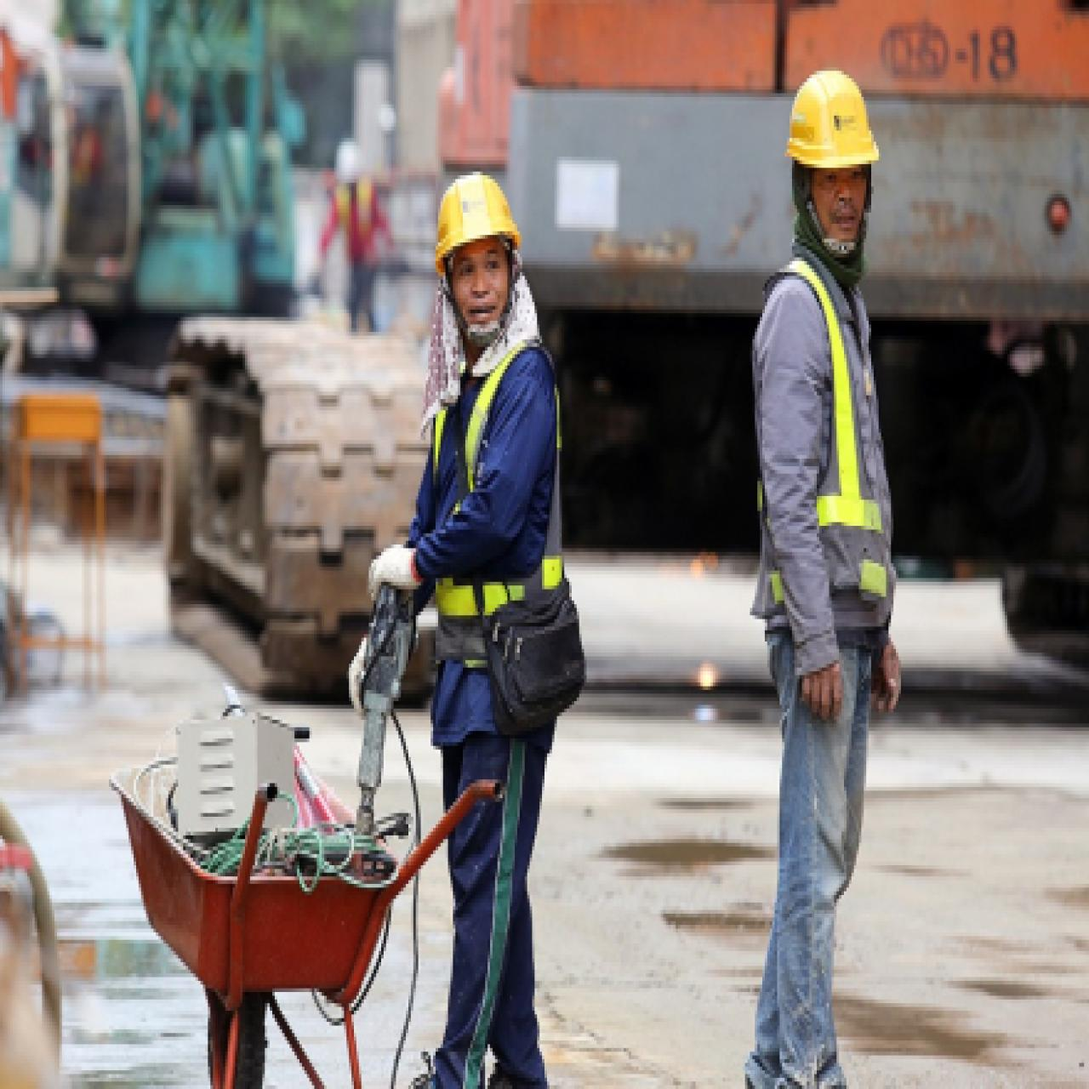Person: (354, 143, 628, 1089), (706, 22, 936, 1089)
Safety_Vest: (744, 242, 909, 630), (414, 332, 578, 698)
